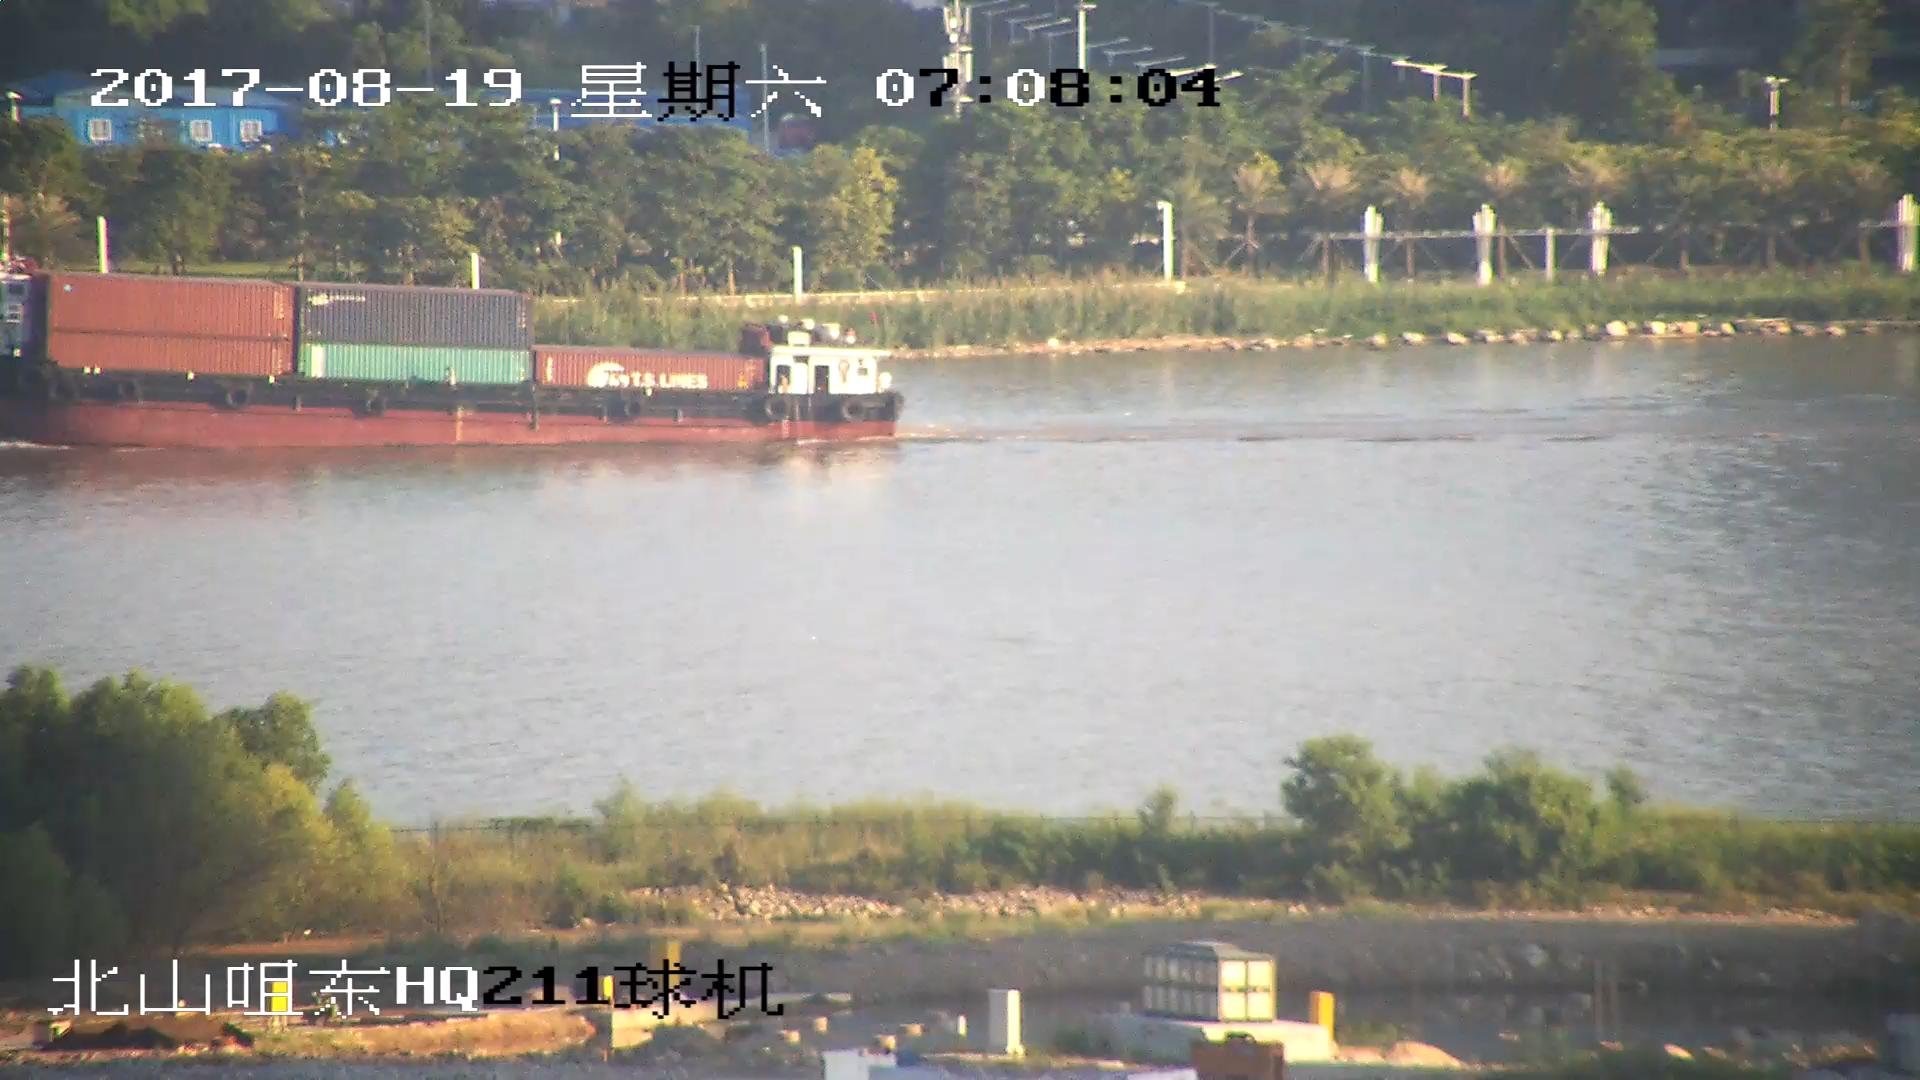container ship: (1, 275, 903, 447)
